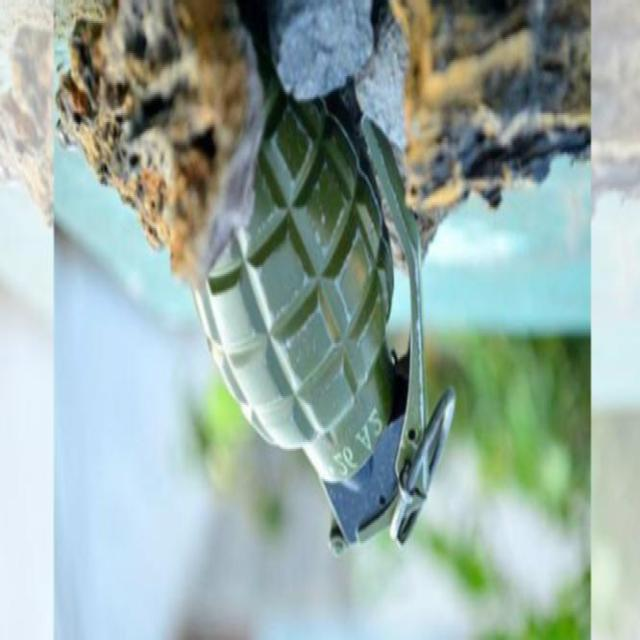grenade: (191, 59, 457, 558)
